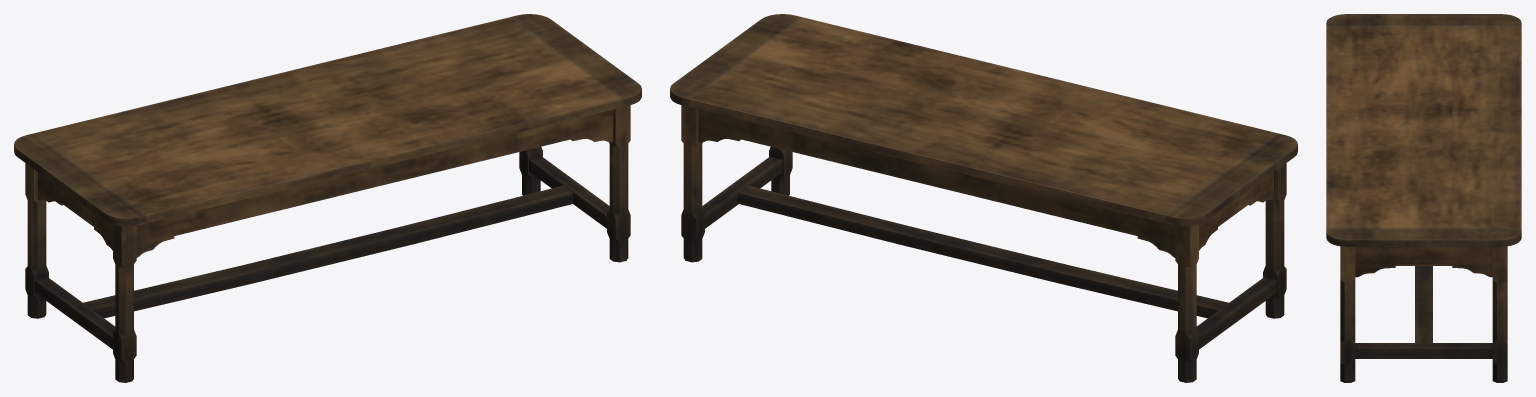
The model's file is WoodenTable_01.fbx.
3 views of the same model, side by side, from view 1: azimuth 30°, elevation 25°; view 2: azimuth 150°, elevation 25°; view 3: azimuth 270°, elevation 25° (orthographic). The views are drawn at different scales.
Parts seen in each view (by area): view 1: WoodenTable_01; view 2: WoodenTable_01; view 3: WoodenTable_01.
Part boxes in pixels (x1=…): WoodenTable_01: x1=14, y1=14, x2=641, y2=382; WoodenTable_01: x1=670, y1=14, x2=1297, y2=382; WoodenTable_01: x1=1326, y1=14, x2=1521, y2=382.
Size of the model in its own units: 1.8 by 0.5488 by 0.6572.
